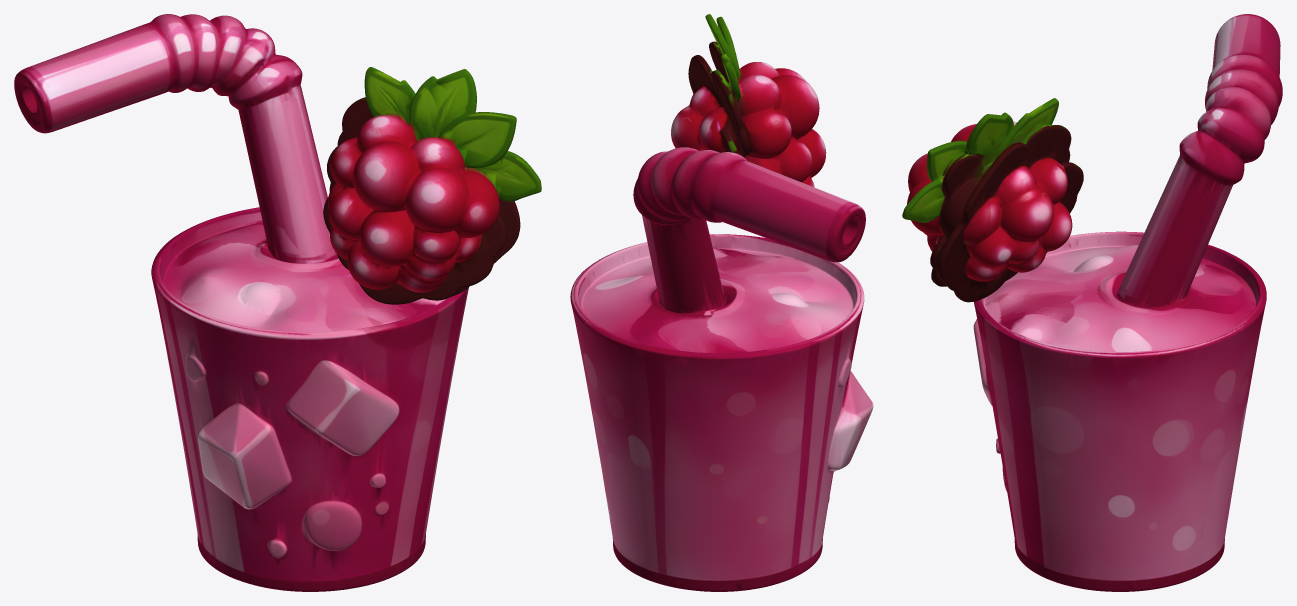
The model's file is Web_Smoothie_Raspberry.fbx.
3 renders of one model, left to right at view 1: azimuth 30°, elevation 25°; view 2: azimuth 150°, elevation 25°; view 3: azimuth 270°, elevation 25°, orthographic. The views are drawn at different scales.
Parts seen in each view (by area): view 1: Mesh_0; view 2: Mesh_0; view 3: Mesh_0.
Boxes of the visible parts, x1=… form: Mesh_0: x1=14, y1=14, x2=541, y2=591; Mesh_0: x1=570, y1=14, x2=873, y2=591; Mesh_0: x1=902, y1=14, x2=1282, y2=591.
Bounding box in the file's own units: 67.89 × 93.18 × 67.99.
Materials: 1 (1 with a texture image).
